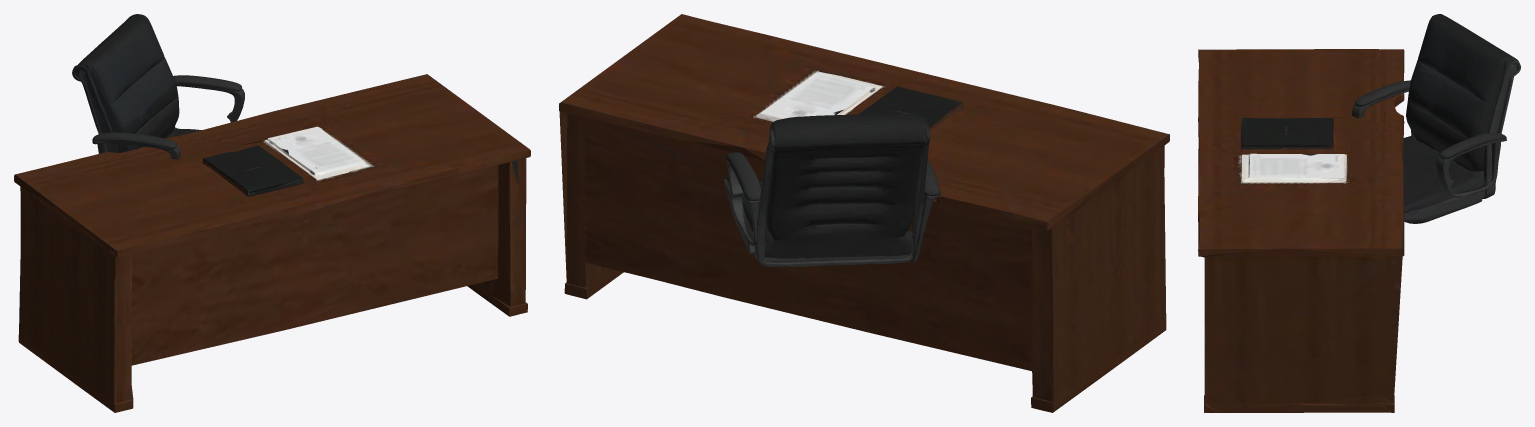
File: prokuror-stoli-mobile.glb
3 views of the same model, side by side, from view 1: azimuth 30°, elevation 25°; view 2: azimuth 150°, elevation 25°; view 3: azimuth 270°, elevation 25° (orthographic). The views are drawn at different scales.
Parts seen in each view (by area): view 1: output_unwrapped; view 2: output_unwrapped; view 3: output_unwrapped.
Boxes of the visible parts, x1,y1,x2,y2 form: output_unwrapped: (14,14,530,412); output_unwrapped: (559,14,1169,412); output_unwrapped: (1198,14,1520,412).
Size of the model in its own units: 1.8 by 1.02 by 1.22.
Materials: 1 (1 with a texture image).
